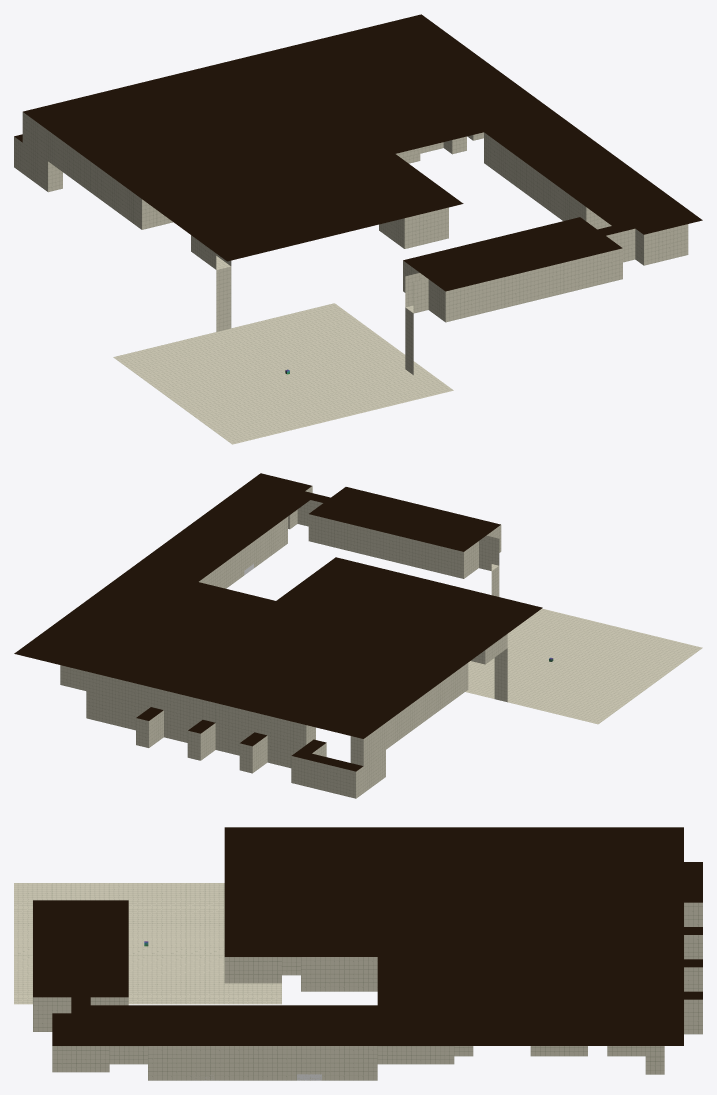
Rendered from spider_maze.glb.
3 renders of one model, top to bottom at view 1: azimuth 30°, elevation 25°; view 2: azimuth 150°, elevation 25°; view 3: azimuth 270°, elevation 25°, orthographic. The views are drawn at different scales.
Visible parts, largest first — view 1: roof, level; view 2: roof, level; view 3: roof, level.
Part boxes in pixels (box(x1,y1,x2,y2)): roof: box(14, 14, 702, 291); level: box(14, 112, 688, 444); roof: box(14, 473, 542, 771); level: box(60, 486, 702, 798); roof: box(33, 827, 702, 1045); level: box(14, 883, 702, 1080).
Size of what is drawn, in the model's own units: 33 by 6 by 36.
3 materials, 3 textured.
